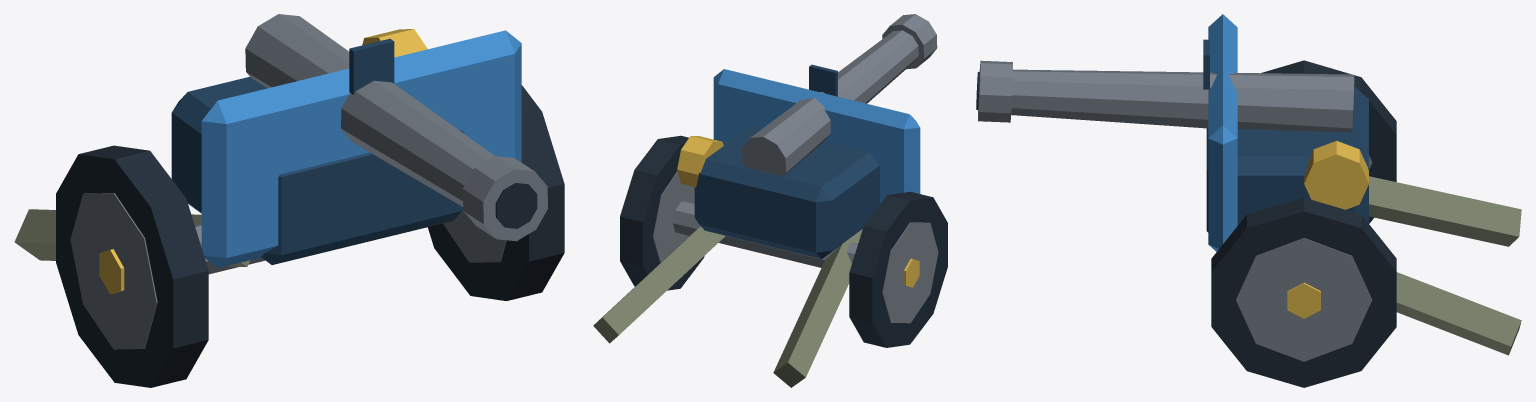
File: u_field_gun.glb
3 views of the same model, side by side, from view 1: azimuth 30°, elevation 25°; view 2: azimuth 150°, elevation 25°; view 3: azimuth 270°, elevation 25° (orthographic). The views are drawn at different scales.
Parts seen in each view (by area): view 1: u_field_gun; view 2: u_field_gun; view 3: u_field_gun.
Part boxes in pixels (x1,y1,x2,y2): u_field_gun: (14, 14, 564, 387); u_field_gun: (593, 14, 947, 387); u_field_gun: (976, 14, 1521, 387).
Bounding box in the file's own units: 0.225 × 0.18 × 0.3358.
